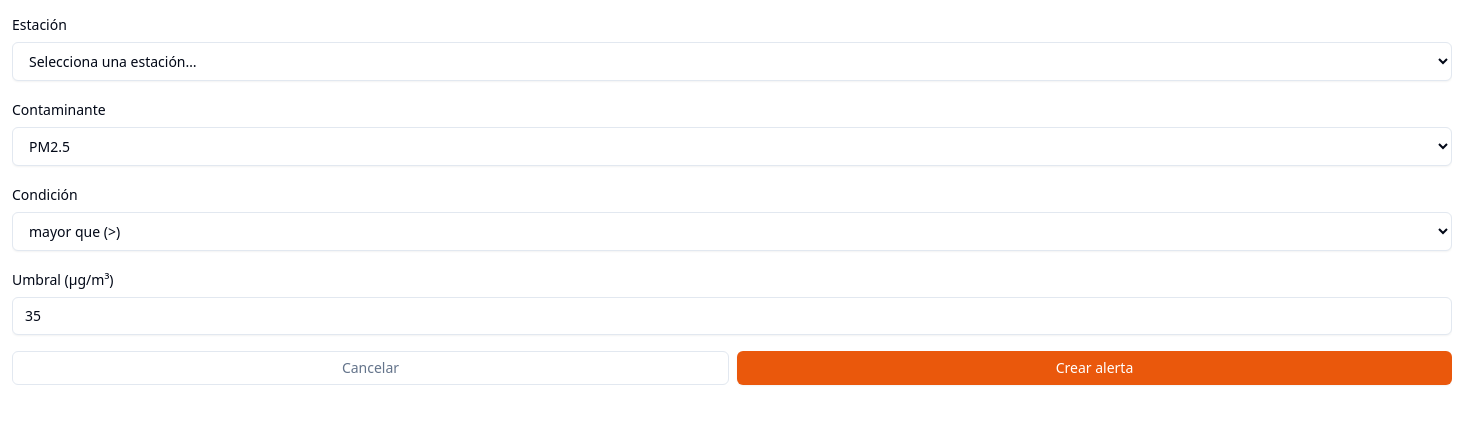
Test: AlertForm › refuses to submit without a selected station
The width and height of the screenshot is (1464, 439).
Expected: the dropdown labelled "Estación" is shown, [12, 42, 1452, 81]
Click the button "Crear alerta": click(1094, 368) [737, 351, 1452, 385]
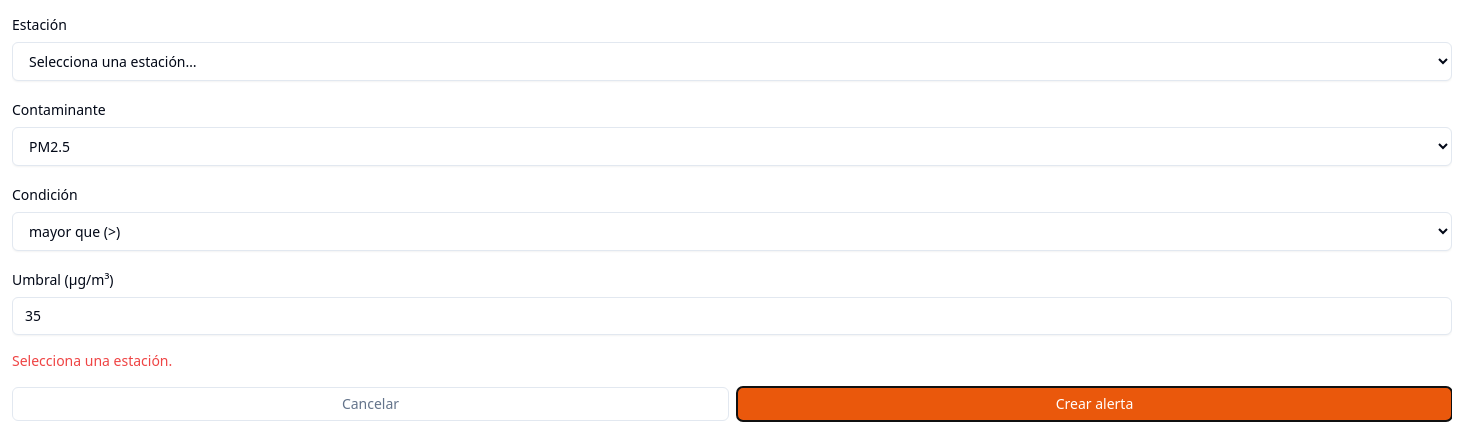
Now the message shows "Selecciona una estación", box [12, 351, 172, 370]
